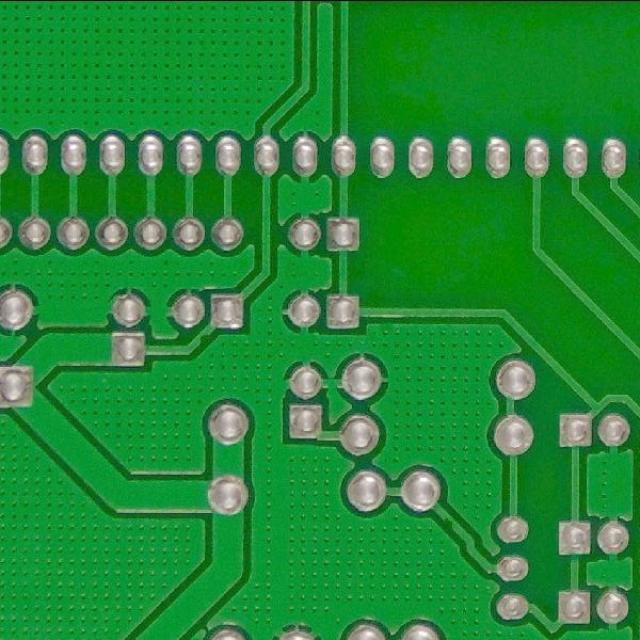MouseBite: (440, 512, 460, 529), (194, 328, 211, 343)
